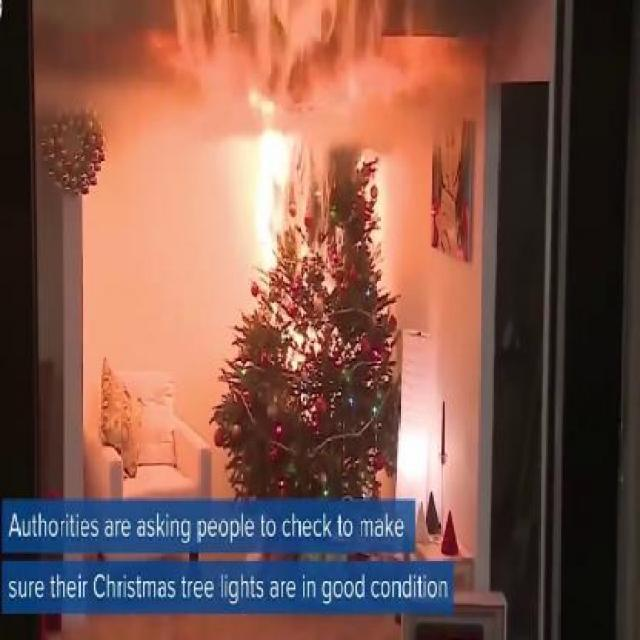smoke: (68, 230, 436, 624)
